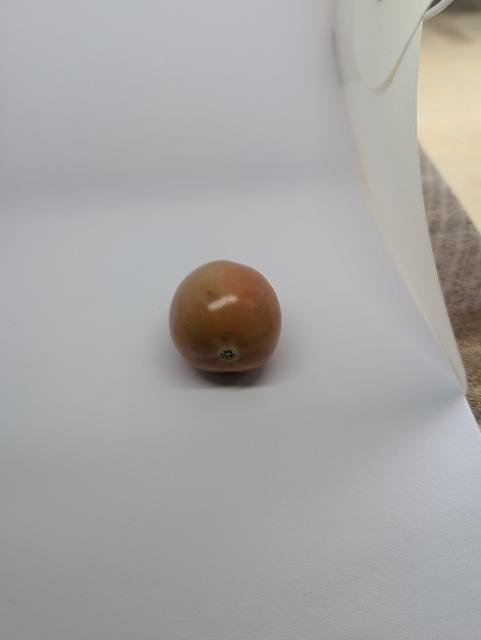turning: (163, 254, 290, 382)
